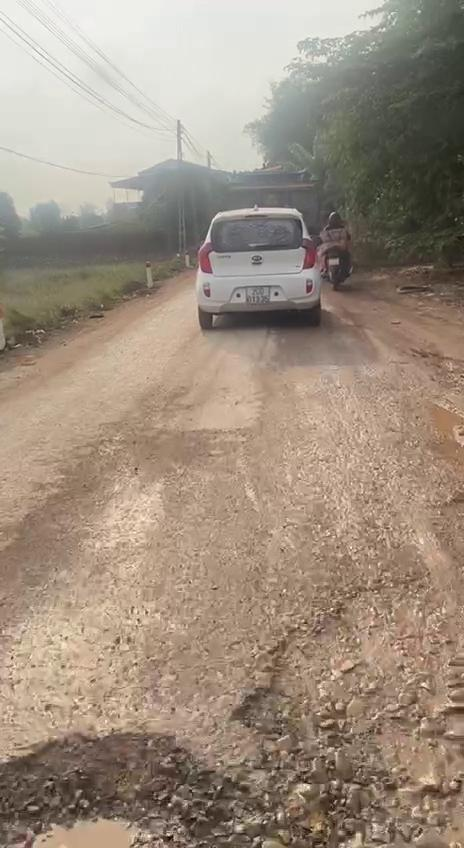pothole: (0, 575, 464, 848)
